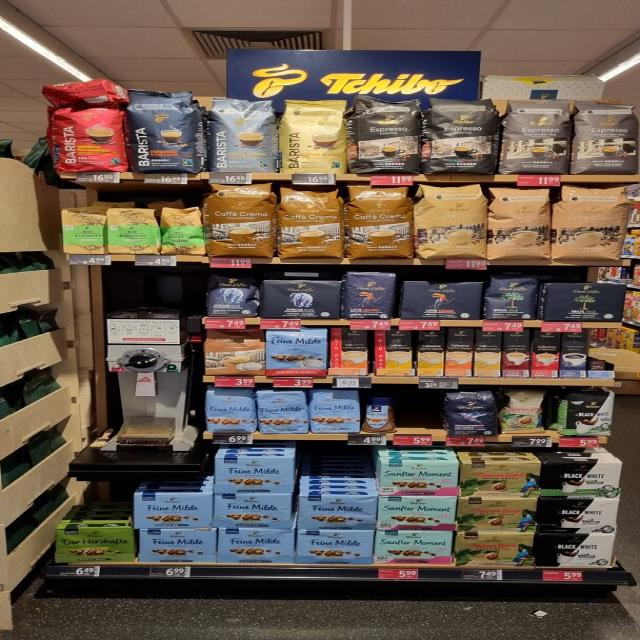AB Bohne: (204, 272, 261, 318)
AB Gemahlen: (259, 281, 343, 320)
Athiopien Bohne: (158, 207, 207, 258)
Athiopien Gemahlen: (106, 208, 162, 256), (61, 208, 106, 255)
BM Bohne: (484, 273, 544, 320)
BM Gemahlen: (540, 281, 627, 323)
BW Bohne: (558, 389, 619, 436)
BW Gemahlen: (538, 462, 623, 498), (537, 499, 622, 534), (534, 534, 619, 568)
Barista CB: (278, 98, 351, 175)
Barista CC: (208, 94, 280, 173)
Barista Espresso: (126, 88, 204, 174)
Barista Kolumbien: (40, 104, 129, 173)
C Fino Bohne: (443, 391, 500, 437)
CC Mild: (551, 186, 633, 261), (416, 183, 489, 261), (486, 184, 554, 262)
CC Vollmundig: (204, 330, 266, 377)
CC Vollmundig 36 Pads: (203, 184, 277, 259), (345, 185, 415, 261), (276, 185, 346, 259)
Colombia BB Bohne: (500, 388, 549, 434)
Colombia BB Gemahlen: (458, 461, 542, 498), (454, 497, 538, 533), (451, 532, 536, 567)
Empty Shelf: (399, 390, 445, 433), (589, 328, 617, 370)
Espresso Aromatisch: (497, 94, 575, 174), (570, 98, 640, 176)
Espresso Kraftig: (351, 93, 425, 176), (425, 95, 499, 177)
FM 36 Pads: (264, 329, 329, 377)
FM Bohne: (254, 389, 309, 434), (204, 386, 255, 432), (309, 389, 361, 434)
FM Gemahlen: (211, 456, 296, 493), (132, 494, 215, 529), (296, 495, 379, 530), (212, 494, 293, 529), (137, 528, 216, 563), (216, 528, 295, 563), (295, 530, 376, 564)
FM Instant: (360, 394, 399, 433)
Herzhatfe Mundig: (54, 528, 134, 564)
LG Bohne: (342, 270, 397, 321)
LG Gemahlen: (397, 280, 484, 320)
SM Gemahlen: (376, 495, 459, 531), (371, 530, 454, 565), (378, 462, 459, 496)
Simo CCMild: (375, 330, 413, 375)
Simo CCMild bigpack: (417, 330, 446, 376)
Simo CCVollmundig: (329, 327, 368, 376)
Simo CCVollmundig bigpack: (444, 328, 474, 377)
Simo Decaff: (475, 328, 503, 376)
Simo Es Brazil: (531, 330, 561, 377)
Simo Es Caramel: (503, 329, 531, 377)
Simo Es Kraft: (559, 329, 589, 378)
